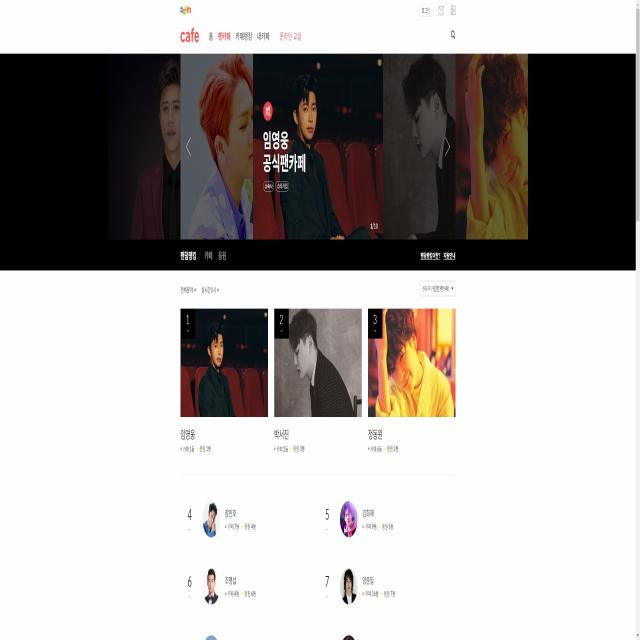menu-bar: (418, 1, 458, 22)
search: (448, 25, 462, 44)
tab-bar: (178, 25, 306, 48), (175, 245, 229, 268)
